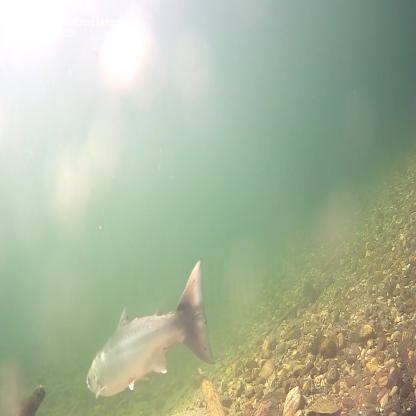salmon: (84, 257, 218, 401)
